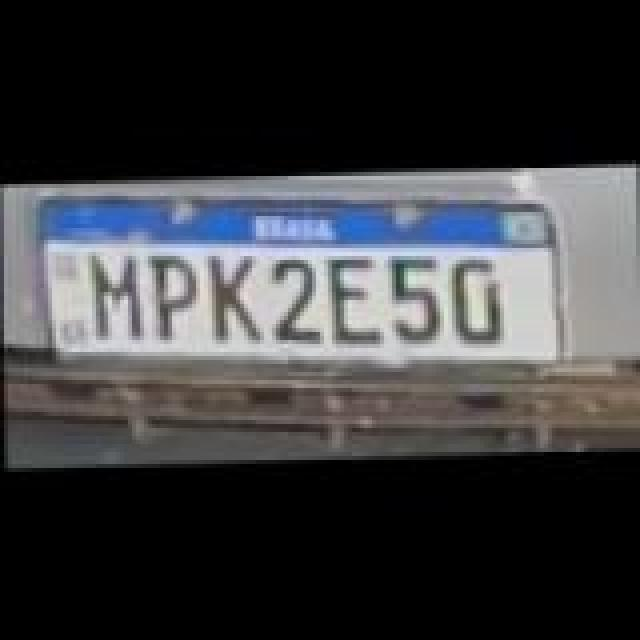2: (266, 252, 330, 340)
5: (386, 254, 442, 342)
D: (448, 256, 508, 344)
E: (324, 256, 384, 344)
K: (206, 254, 270, 346)
M: (88, 248, 156, 340)
P: (146, 248, 210, 336)
